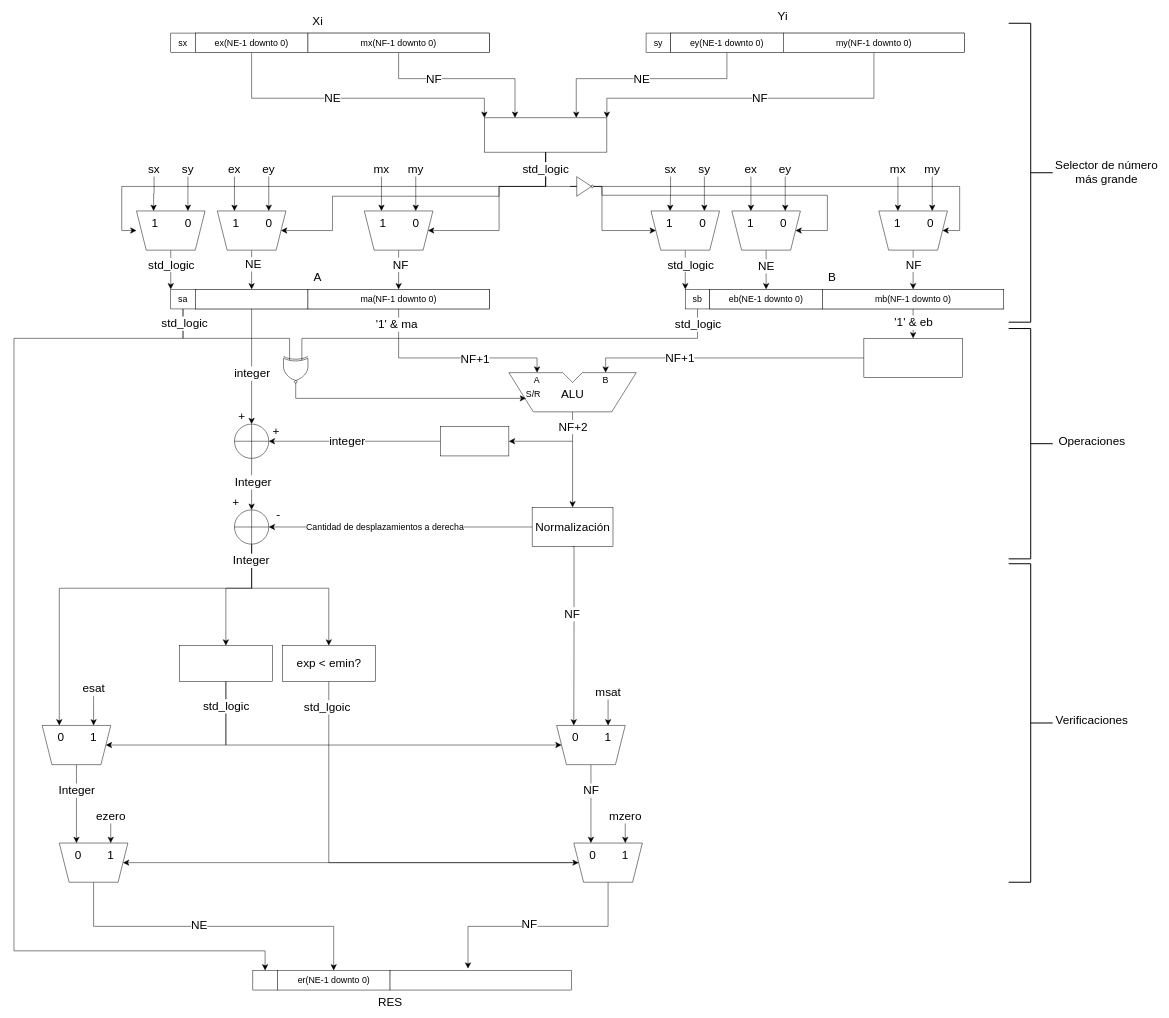
This 1169x1018 diagram has some shape labels left out. The shapes that lost their labels are listed below. From the top down, each one's centre as x and y in pixels, then its label:
At point (545, 134): "ex & mx > ey & my?".
At point (251, 299): "ea(NE-1 downto 0)".
At point (912, 358): "Desplazamiento (ea-eb) bits a la derecha".
At point (474, 441): "MSB (ep(NE+1))".
At point (225, 663): "exp > emax?".
At point (264, 980): "sr".
At point (480, 980): "mr(NF-1 downto 0)".
